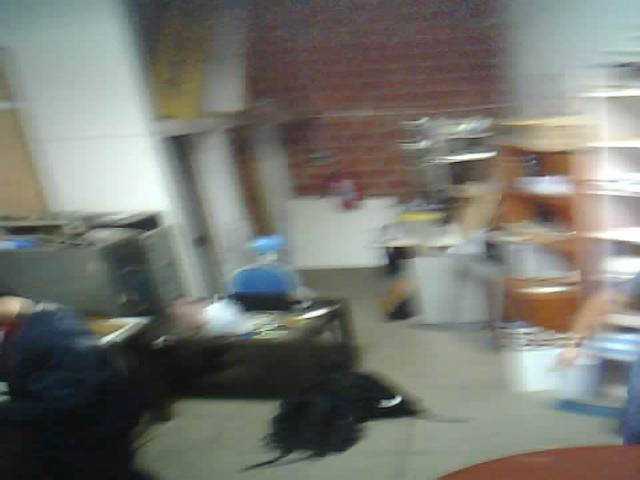person: (3, 269, 150, 480), (571, 233, 640, 465)
